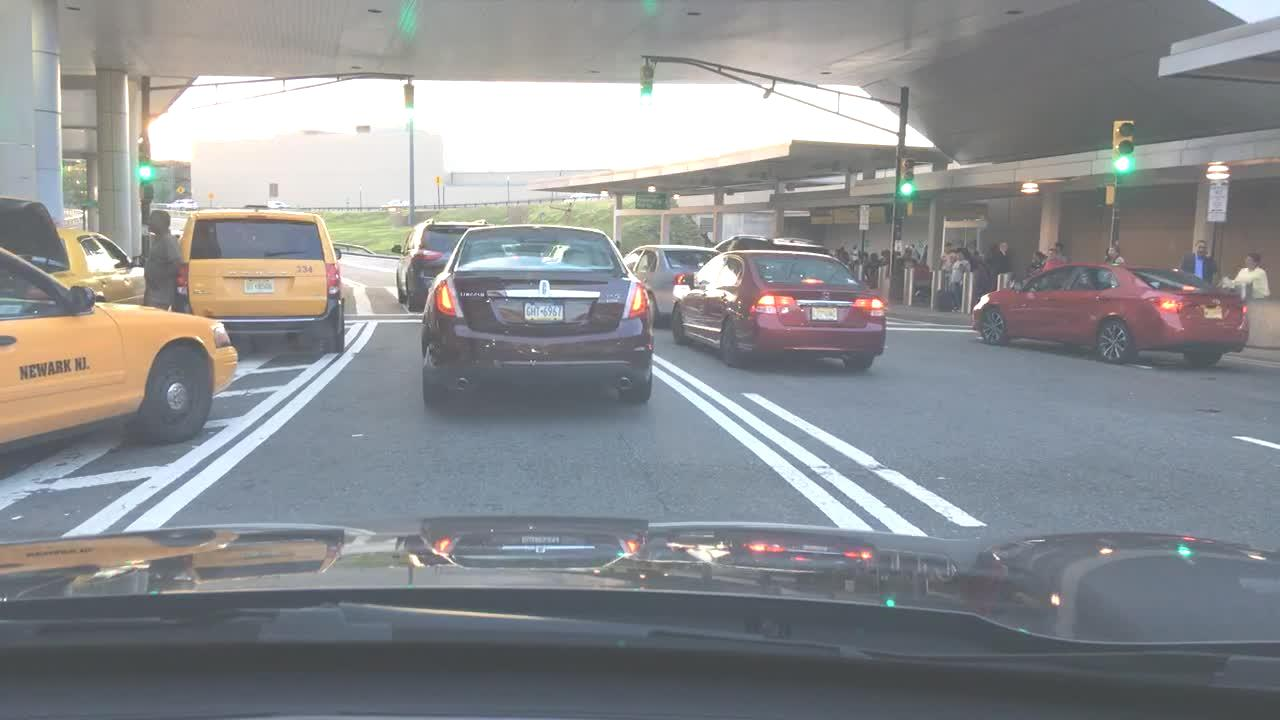lincoln: (539, 278, 552, 299)
